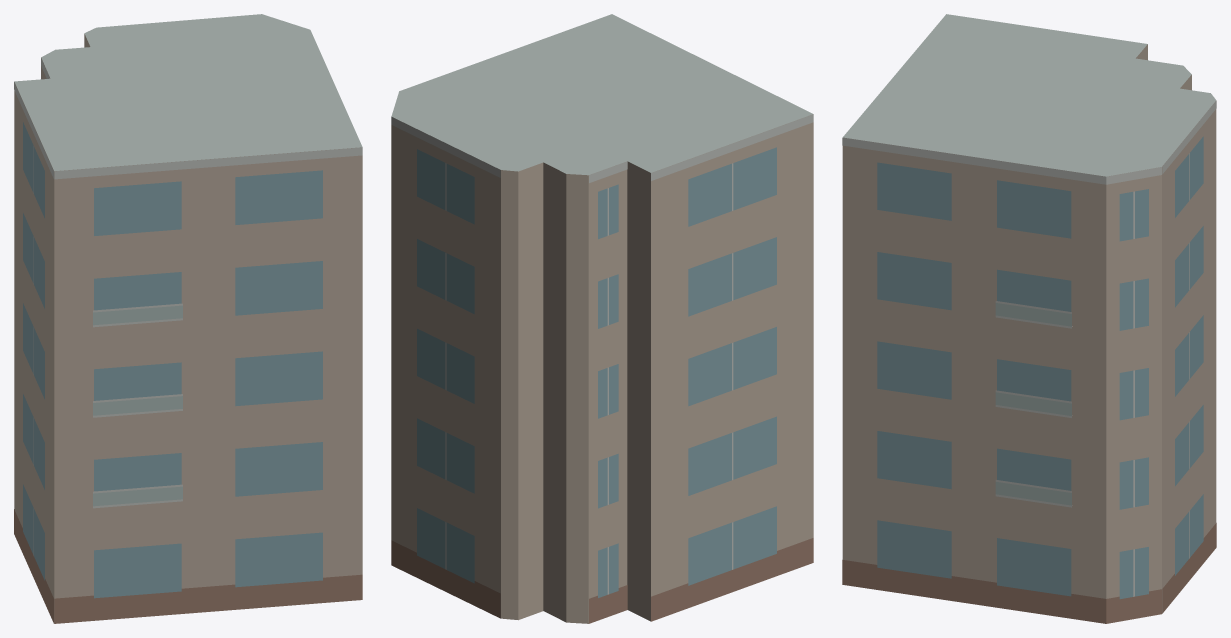
File: survey-upis-32718958.glb
3 renders of one model, left to right at view 1: azimuth 30°, elevation 25°; view 2: azimuth 150°, elevation 25°; view 3: azimuth 270°, elevation 25°, orthographic.
Parts seen in each view (by area): view 1: survey-upis-32718958.tmp; view 2: survey-upis-32718958.tmp; view 3: survey-upis-32718958.tmp.
Boxes of the visible parts, x1,y1,x2,y2 form: survey-upis-32718958.tmp: (14,14,362,623); survey-upis-32718958.tmp: (391,14,813,623); survey-upis-32718958.tmp: (842,14,1216,623).
Bounding box in the file's own units: 10.46 × 13.4 × 10.16.
